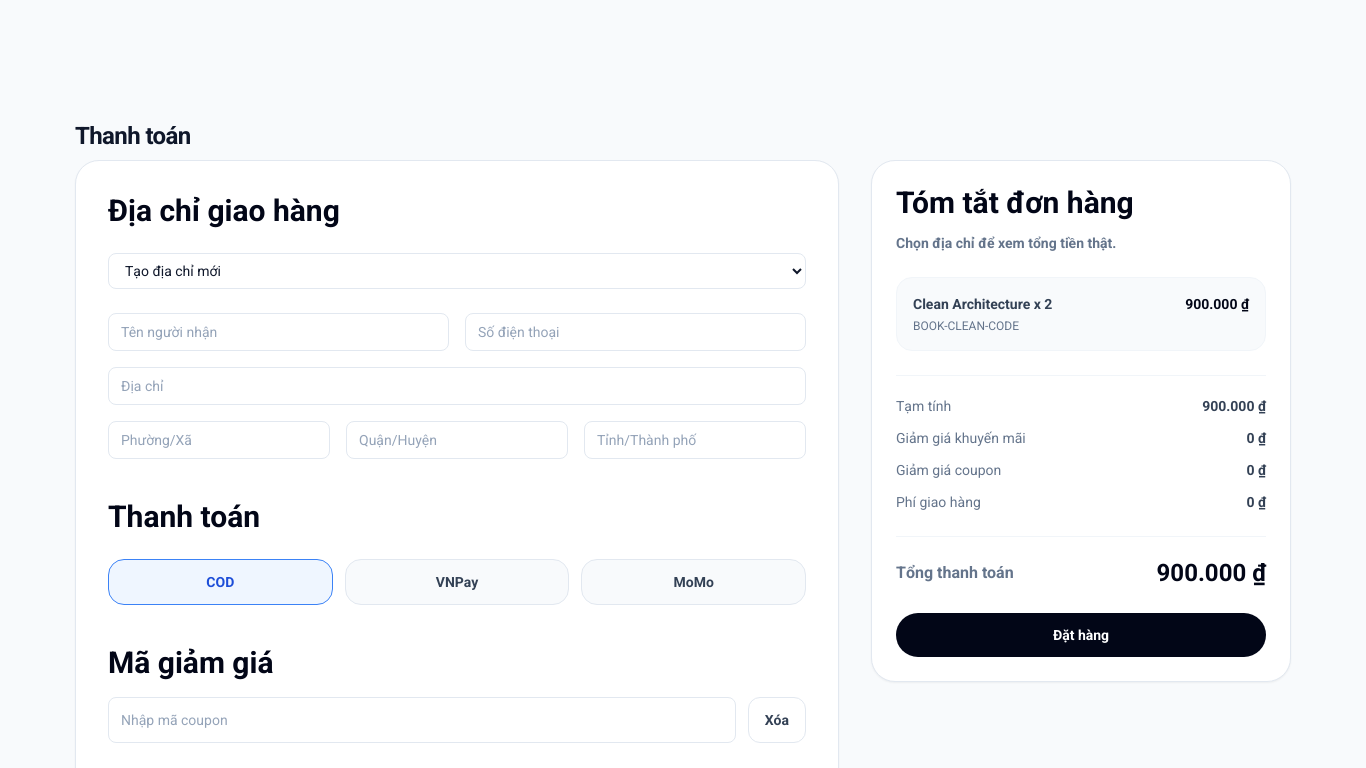
Test case: CheckoutPage › renders backend preview totals and coupon errors
The width and height of the screenshot is (1366, 768).
Select "Aivira Reader - 1 Book Street" in the dropdown at point(457, 271), box [108, 253, 806, 289]
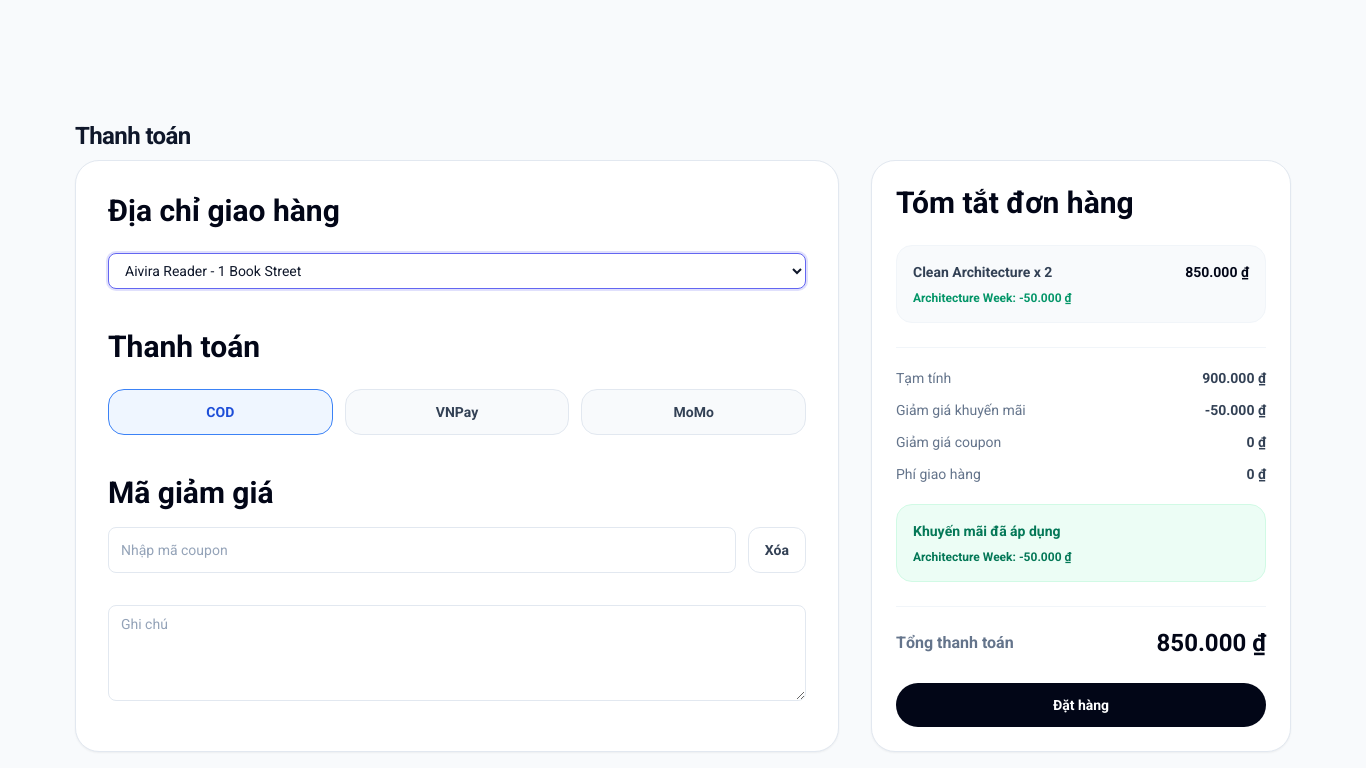
Check: the text "Architecture Week: -50.000 ₫" below "Clean Architecture" is shown, box [913, 291, 1012, 305]
Check: the text "850.000 ₫" in the row of "Clean Architecture" is shown, box [1185, 264, 1249, 280]
Type "BAD" into the field with placeholder "Nhập mã coupon" at point(422, 550), box [108, 527, 736, 573]
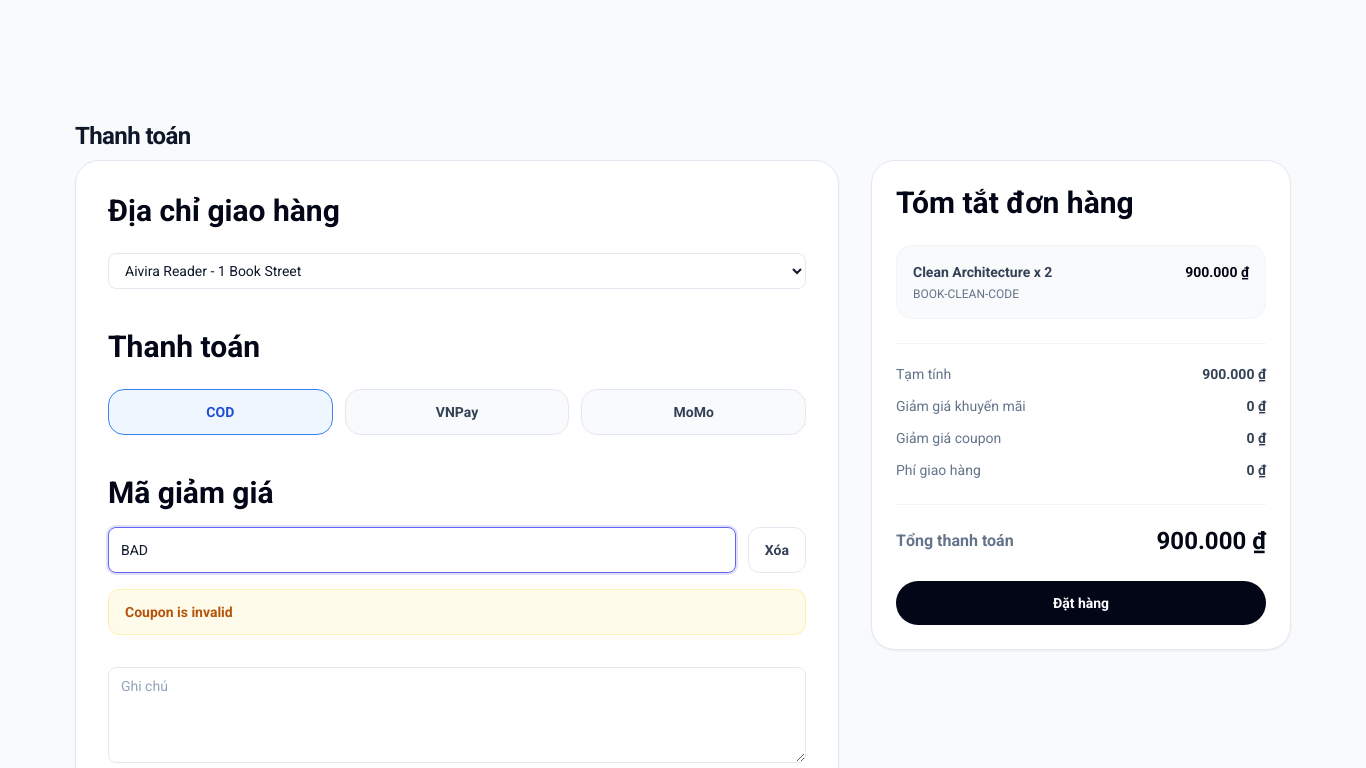
Check: the text "Coupon is invalid" is shown, box [108, 589, 806, 635]
